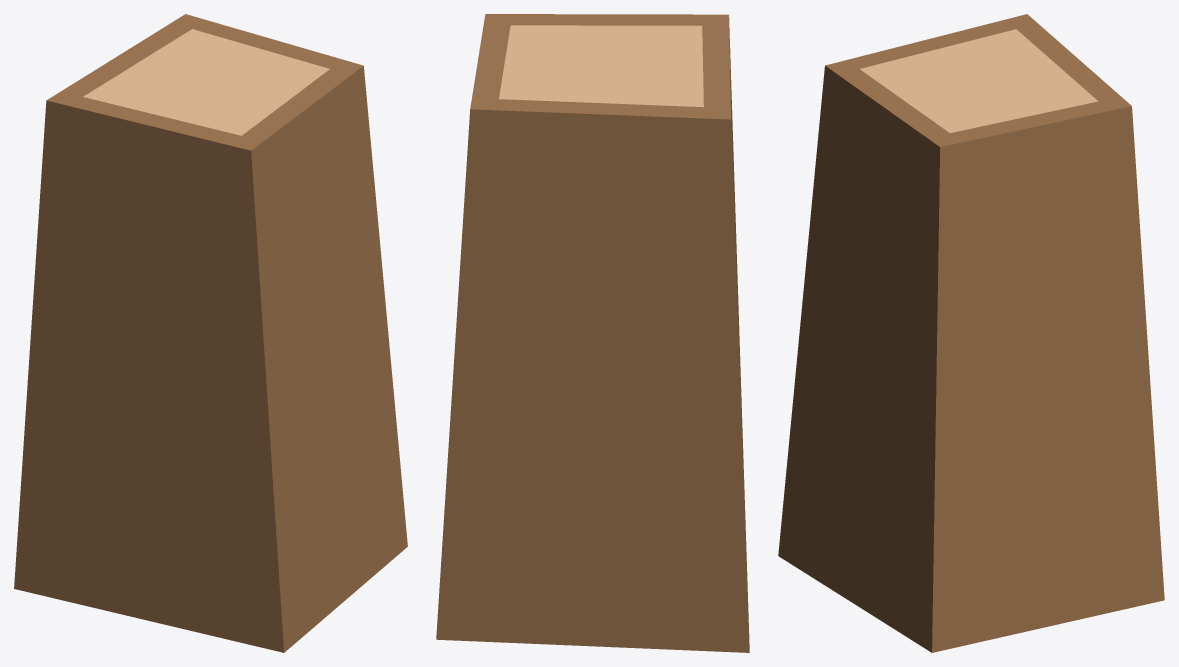
The model's file is Fir_Stump_02.fbx.
3 renders of one model, left to right at view 1: azimuth 30°, elevation 25°; view 2: azimuth 150°, elevation 25°; view 3: azimuth 270°, elevation 25°, orthographic. The views are drawn at different scales.
Parts seen in each view (by area): view 1: Fir_Stump_02; view 2: Fir_Stump_02; view 3: Fir_Stump_02.
Part boxes in pixels (x1=…): Fir_Stump_02: x1=14, y1=14, x2=407, y2=652; Fir_Stump_02: x1=436, y1=14, x2=749, y2=652; Fir_Stump_02: x1=778, y1=14, x2=1164, y2=652.
Size of the model in its own units: 23.71 by 32.76 by 23.5.
